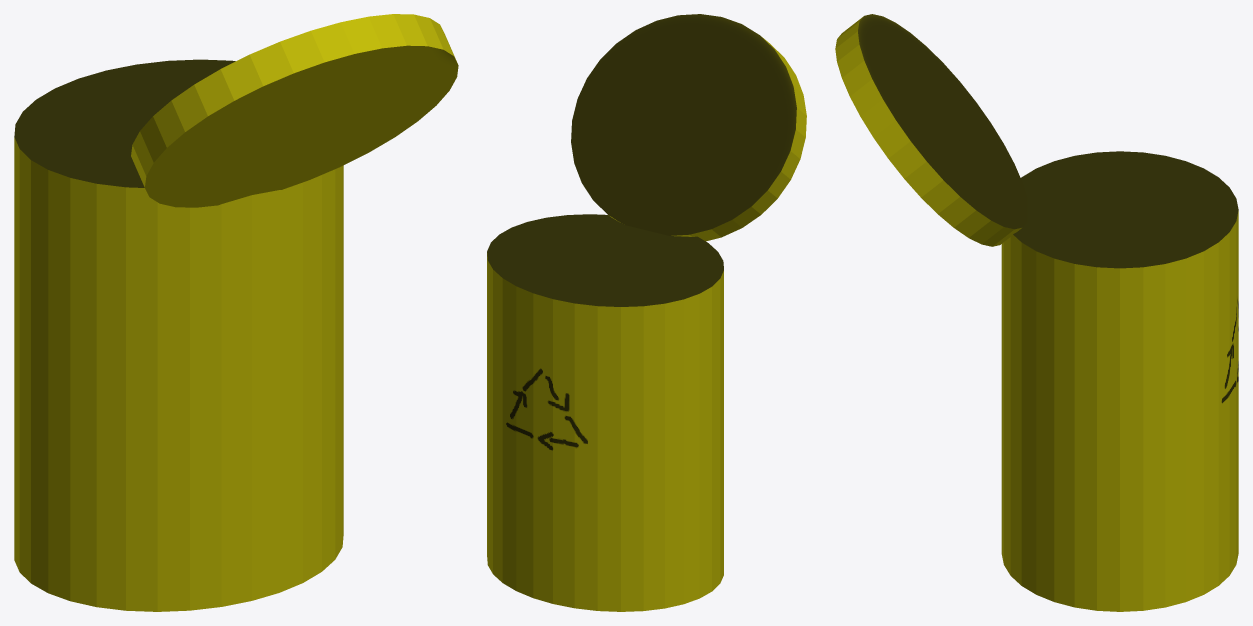
The model's file is Smietnik.fbx.
The picture shows the model from 3 angles, left to right: view 1: azimuth 30°, elevation 25°; view 2: azimuth 150°, elevation 25°; view 3: azimuth 270°, elevation 25°; orthographic projection. The views are drawn at different scales.
Parts seen in each view (by area): view 1: Cylinder, Cylinder.001; view 2: Cylinder, Cylinder.001; view 3: Cylinder, Cylinder.001.
Part boxes in pixels (box(x1,y1,x2,y2)): Cylinder: box(14, 59, 343, 611); Cylinder.001: box(131, 14, 458, 207); Cylinder: box(487, 214, 723, 611); Cylinder.001: box(571, 14, 806, 241); Cylinder: box(1001, 151, 1238, 611); Cylinder.001: box(835, 14, 1027, 246).
Size of the model in its own units: 327 by 679 by 475.
